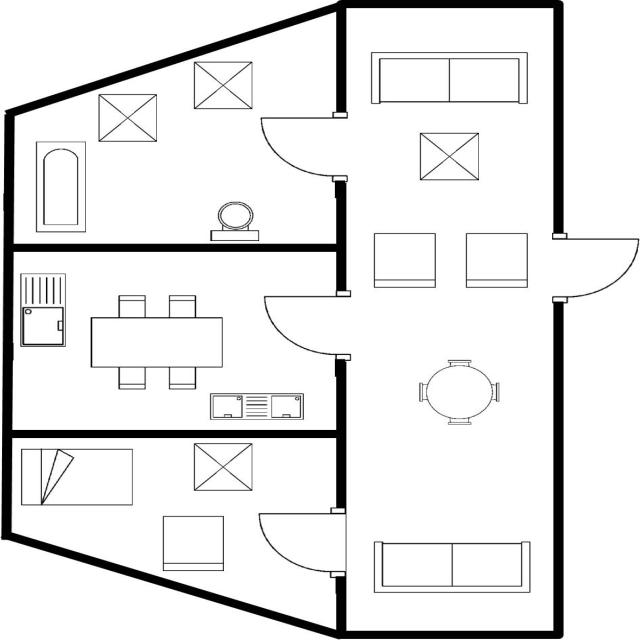bed: (17, 444, 145, 509)
coffee_table: (91, 90, 163, 149), (411, 128, 486, 184), (185, 440, 259, 496), (190, 57, 259, 115)
dining_table: (82, 288, 228, 391)
large_sink: (201, 196, 264, 245)
large_sofa: (364, 536, 536, 598), (364, 47, 533, 109)
round_table: (411, 352, 505, 429)
sink: (15, 270, 70, 349)
small_sofa: (457, 226, 536, 292), (367, 226, 441, 293), (154, 511, 232, 574)
tub: (28, 139, 90, 236)
twin_sink: (202, 389, 307, 424)
